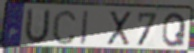7: (136, 10, 160, 48)
C: (50, 8, 78, 46)
I: (80, 9, 91, 46)
Q: (161, 11, 188, 49)
U: (22, 7, 52, 45)
X: (107, 10, 133, 47)
